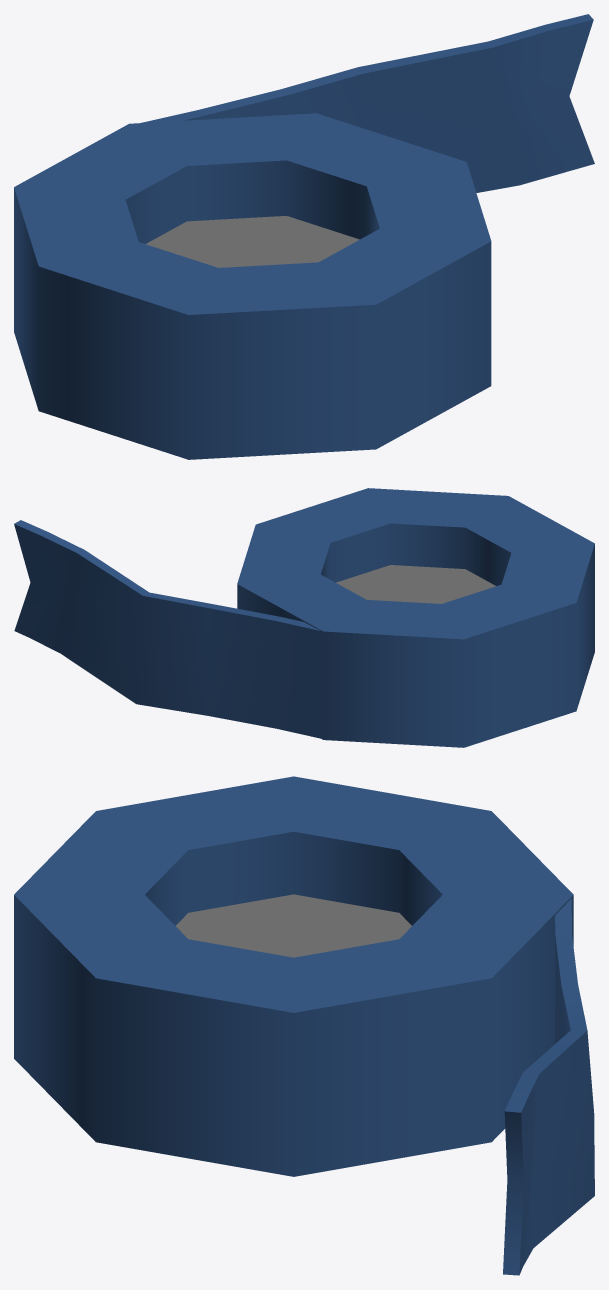
File: PR_Tape.fbx
The picture shows the model from 3 angles, top to bottom: view 1: azimuth 30°, elevation 25°; view 2: azimuth 150°, elevation 25°; view 3: azimuth 270°, elevation 25°; orthographic projection. The views are drawn at different scales.
Parts seen in each view (by area): view 1: PR_tape; view 2: PR_tape; view 3: PR_tape.
Part boxes in pixels (x1=…): PR_tape: x1=14, y1=14, x2=594, y2=459; PR_tape: x1=14, y1=488, x2=594, y2=747; PR_tape: x1=14, y1=776, x2=594, y2=1275.
Size of the model in its own units: 55.94 by 13.93 by 38.21.
